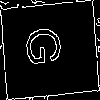G: (25, 24, 70, 67)
